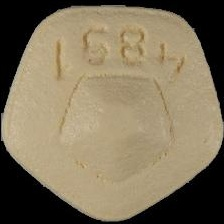0007-4891: (0, 0, 224, 224)
